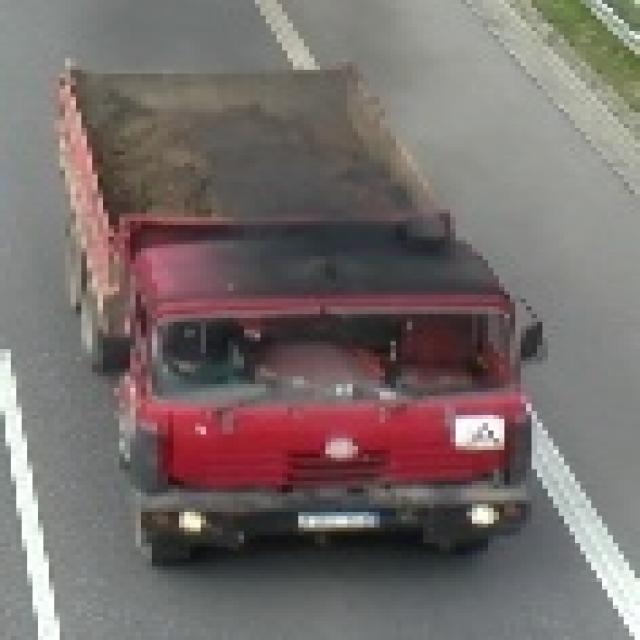truck: (43, 54, 537, 570)
